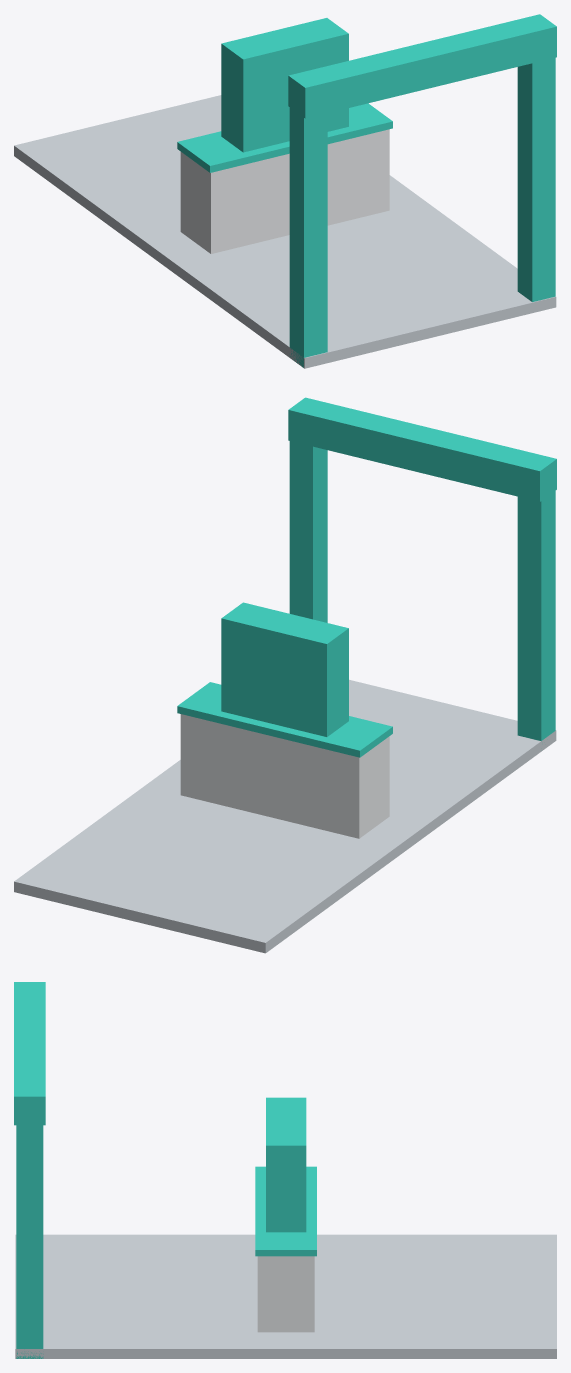
3 views of the same model, one above another, from view 1: azimuth 30°, elevation 25°; view 2: azimuth 150°, elevation 25°; view 3: azimuth 270°, elevation 25° (orthographic). The views are drawn at different scales.
Visible parts, largest first — view 1: Exhibition Booth Concept; view 2: Exhibition Booth Concept; view 3: Exhibition Booth Concept.
Part boxes in pixels (bbox=[...]): Exhibition Booth Concept: bbox=[14, 14, 556, 368]; Exhibition Booth Concept: bbox=[14, 397, 556, 953]; Exhibition Booth Concept: bbox=[14, 982, 556, 1358].
Size of the model in its own units: 3 by 3.2 by 6.02.
